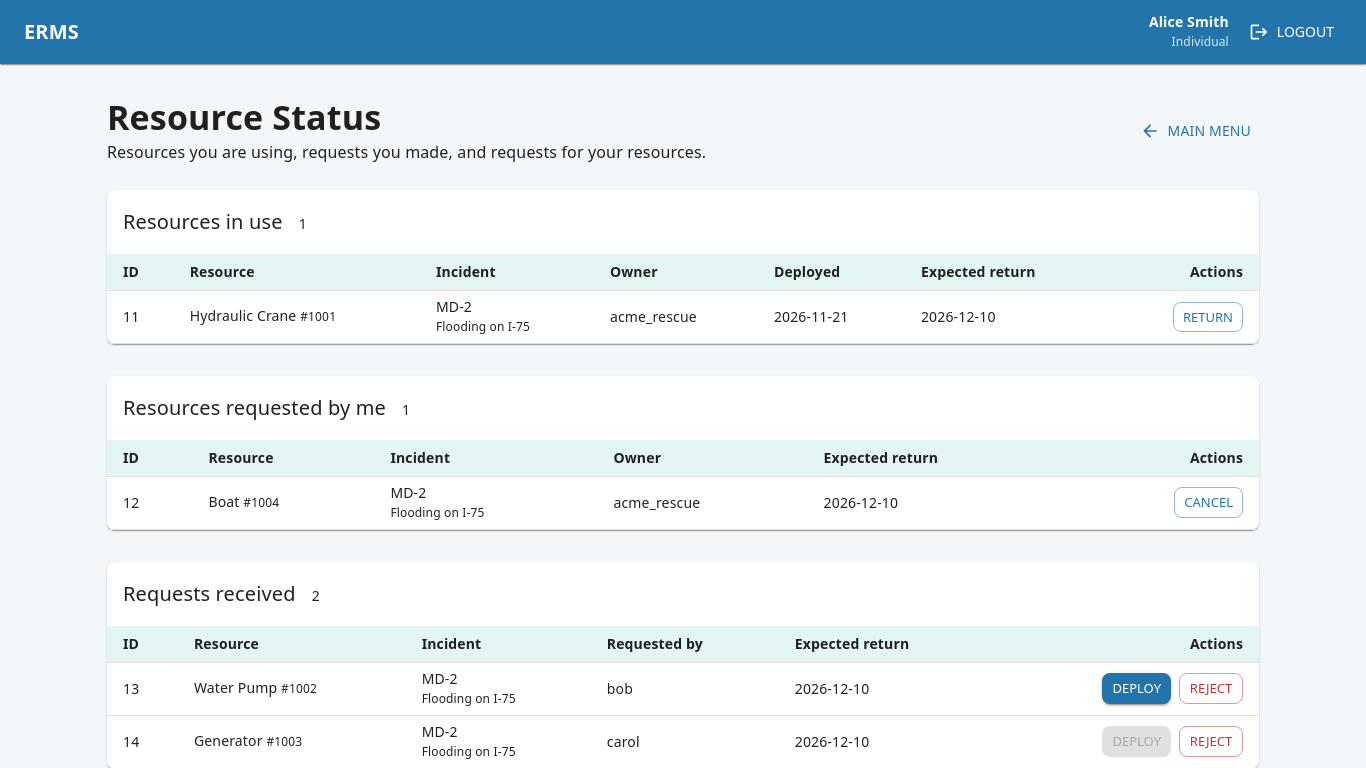
ResourceStatusPage › shows the server message when an action conflicts (409)
This screenshot has width=1366, height=768.
Check: the text "Boat" is shown, box 208,492 -> 240,511
Click the button with aria-label "Deploy request 13". click: {"x": 1137, "y": 689}
box: 1102,673 -> 1171,704
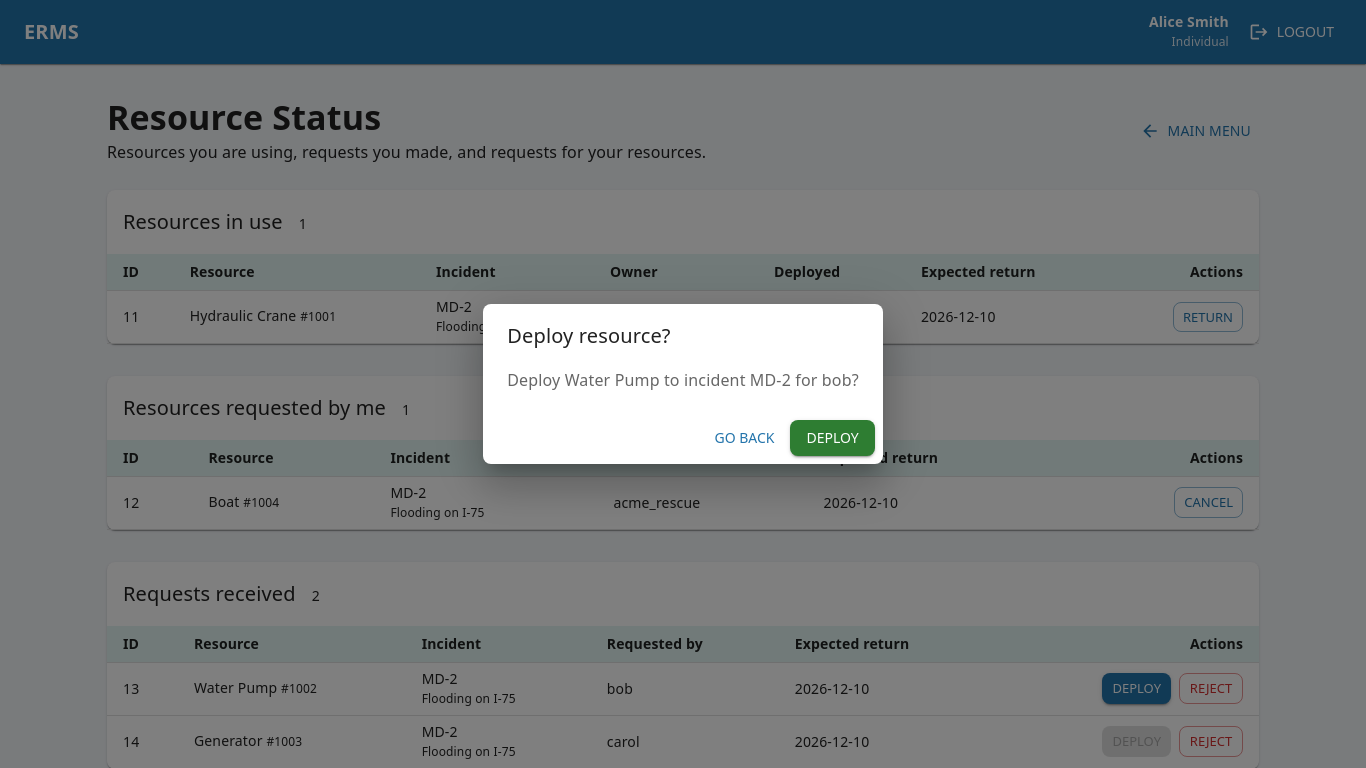
Click the button "Deploy". click: {"x": 833, "y": 438}
box: 790,420 -> 875,456
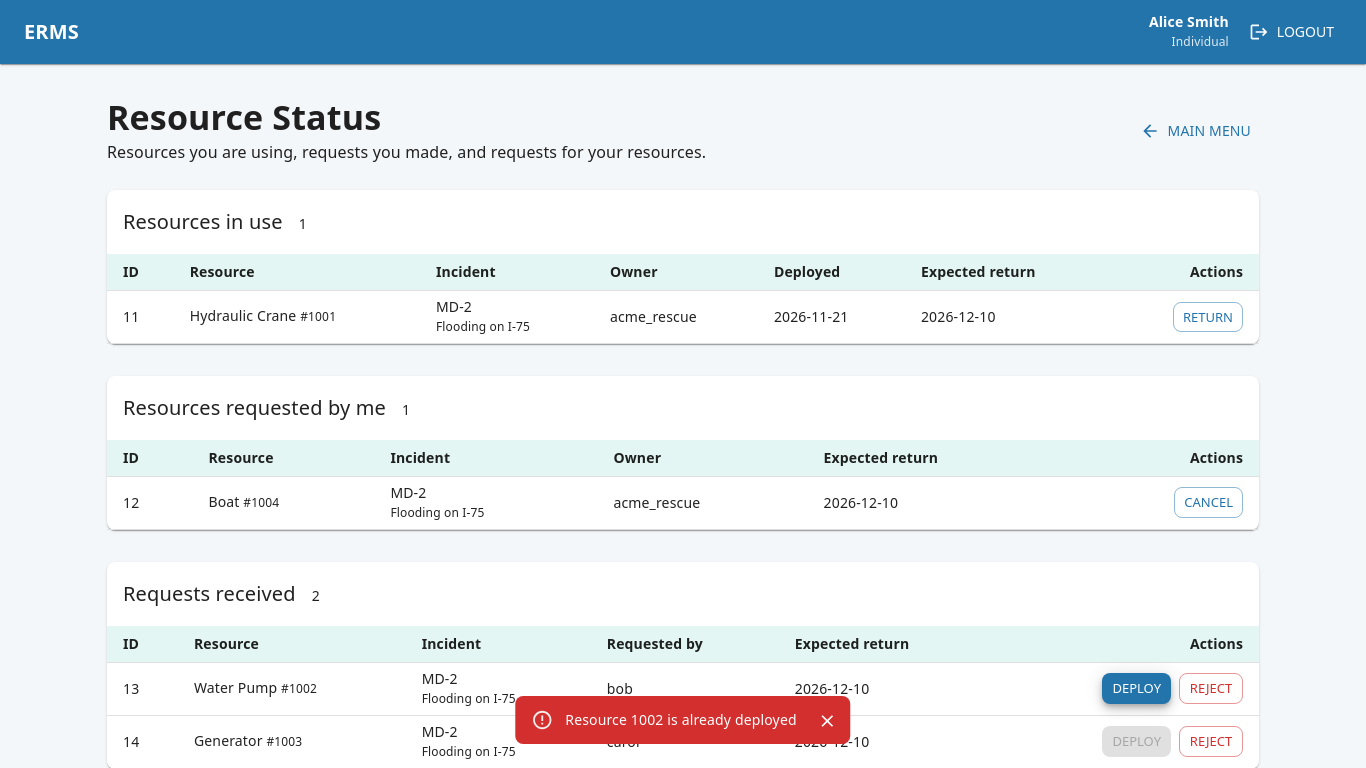
Check: the text "Resource 1002 is already deployed" is shown, box 565,710 -> 797,729
